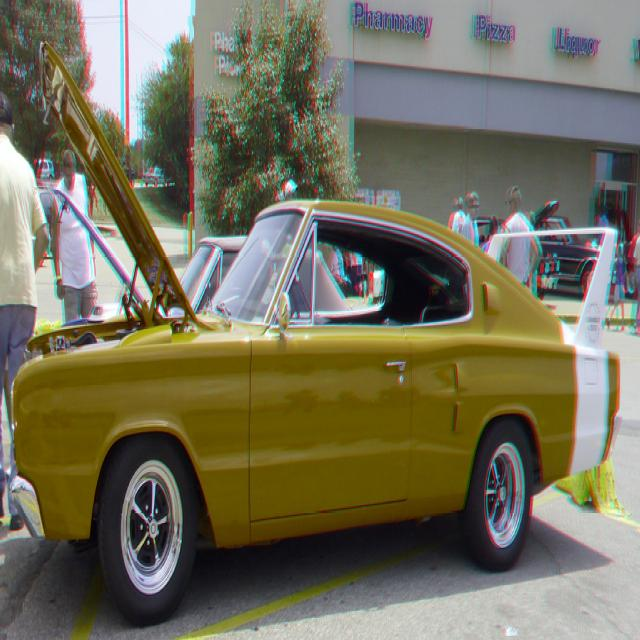car: (6, 37, 630, 613)
